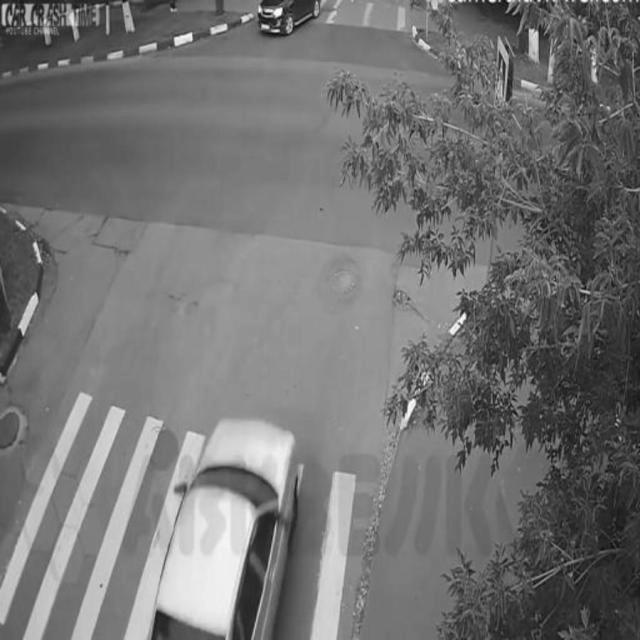vehicle: (155, 402, 307, 636), (258, 1, 325, 33)
